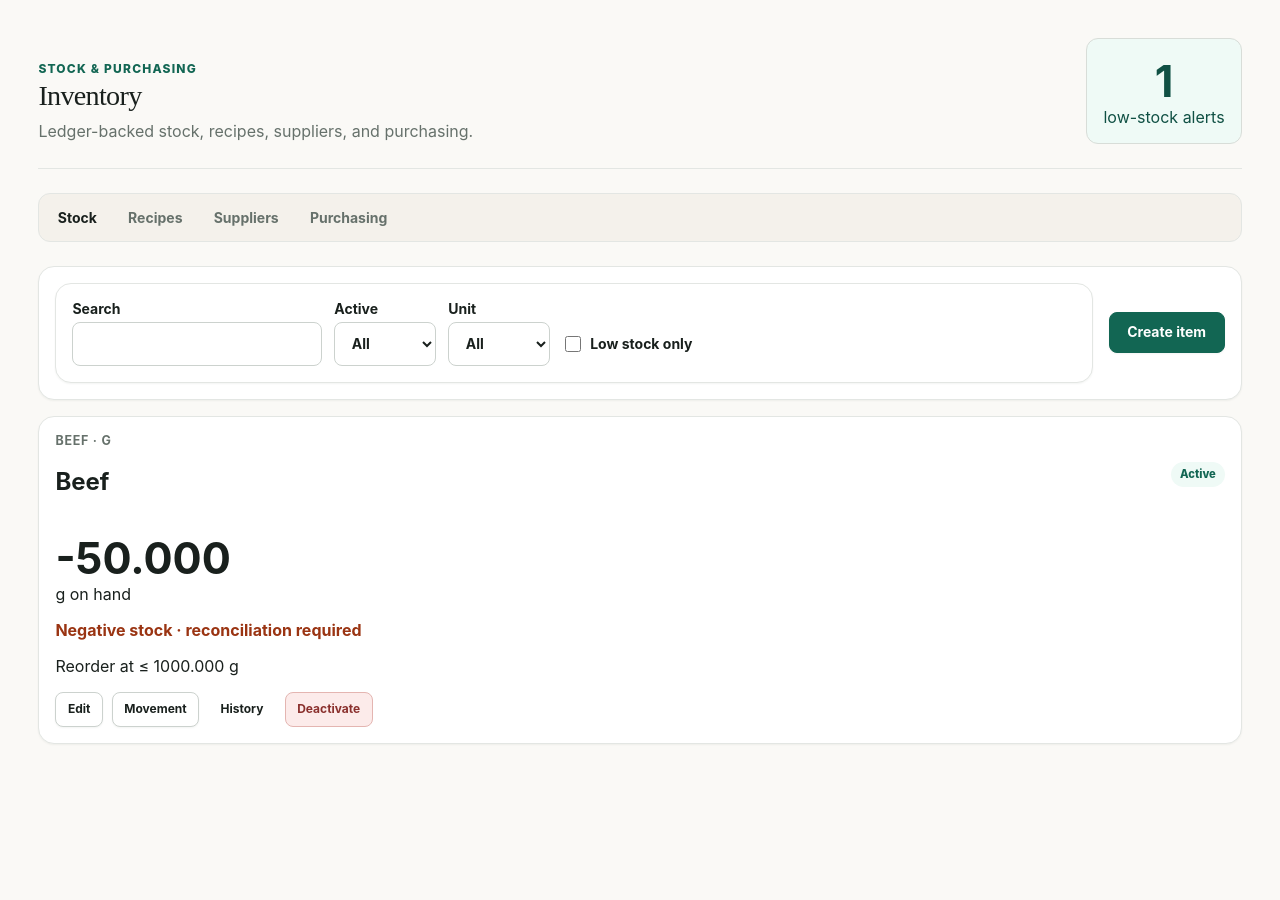
it: inventory page › records a manual waste movement without client-controlled actor or timestamp
Expected: the heading "Beef" is shown, [55,468,112,496]
Click the button "Movement". click: (155, 710)
box: [112,692,199,727]
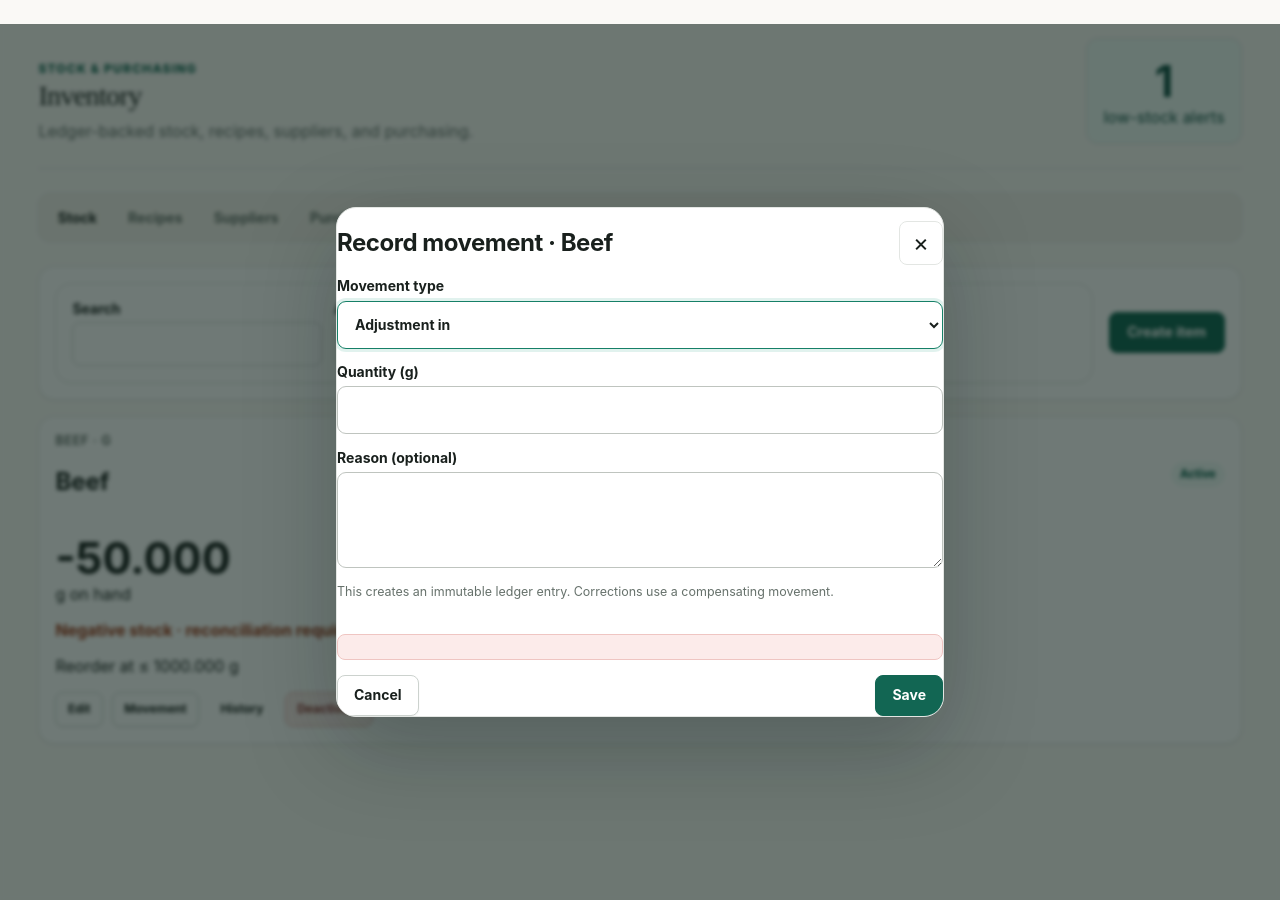
Select "Waste" in the dropdown labelled "Movement type". click: (640, 325)
box: [337,301,943,349]
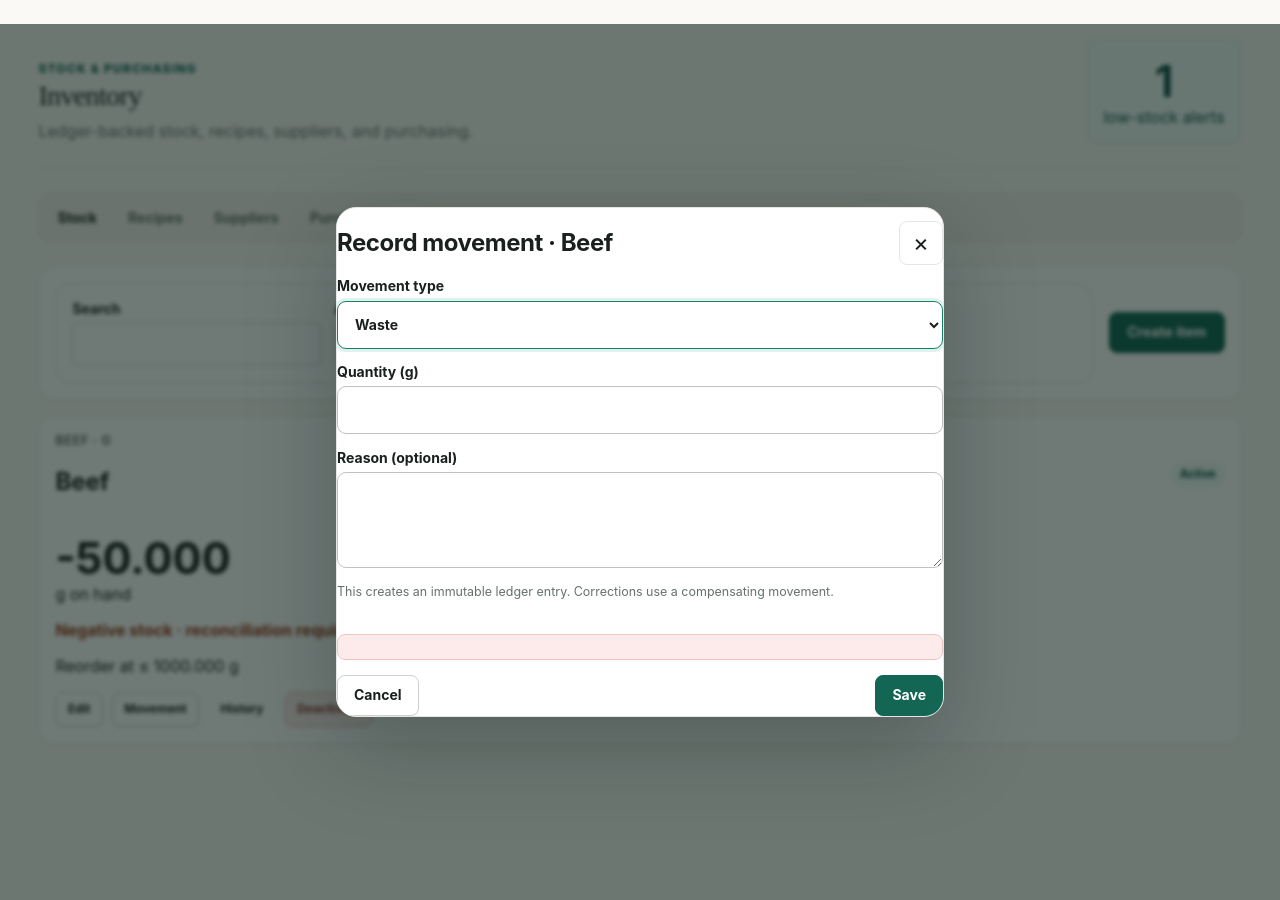
Type "2.5" into the number field labelled "Quantity (g)". click: (640, 410)
box: [337,386,943,434]
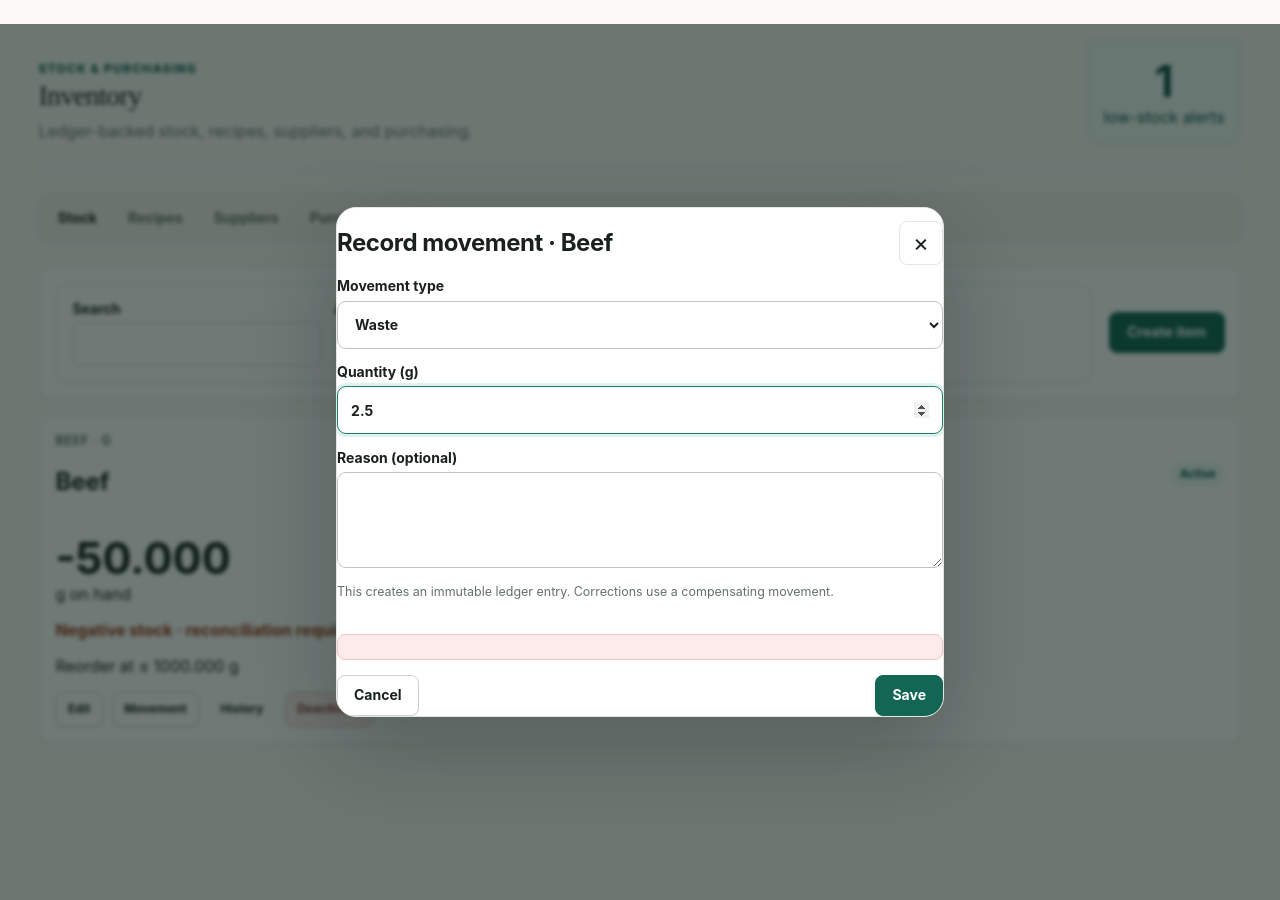
Type "Trim" into the text box labelled "Reason (optional)". click: (640, 520)
box: [337,472,943,568]
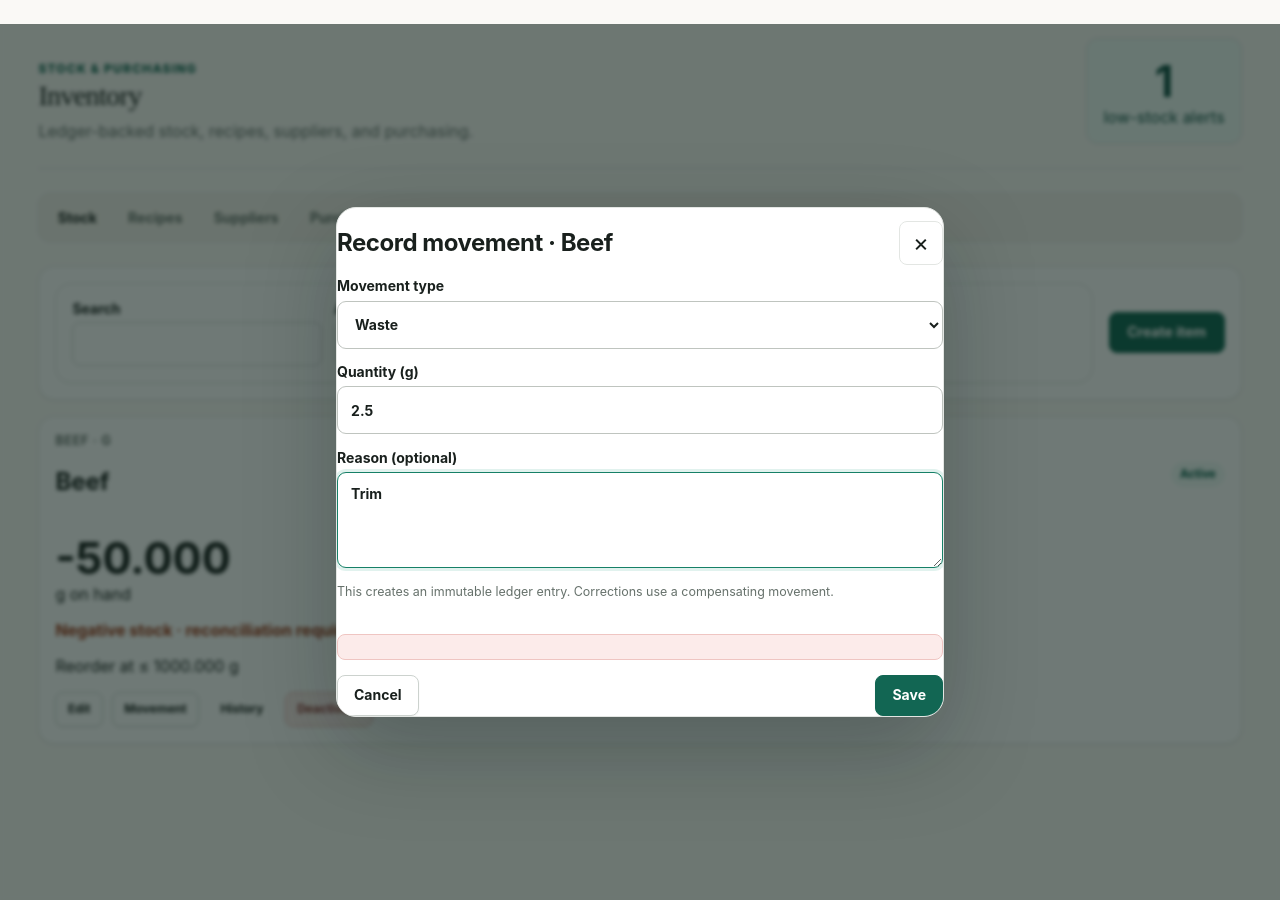
Click the button "Save". click: (909, 695)
box: [876,675,943,716]
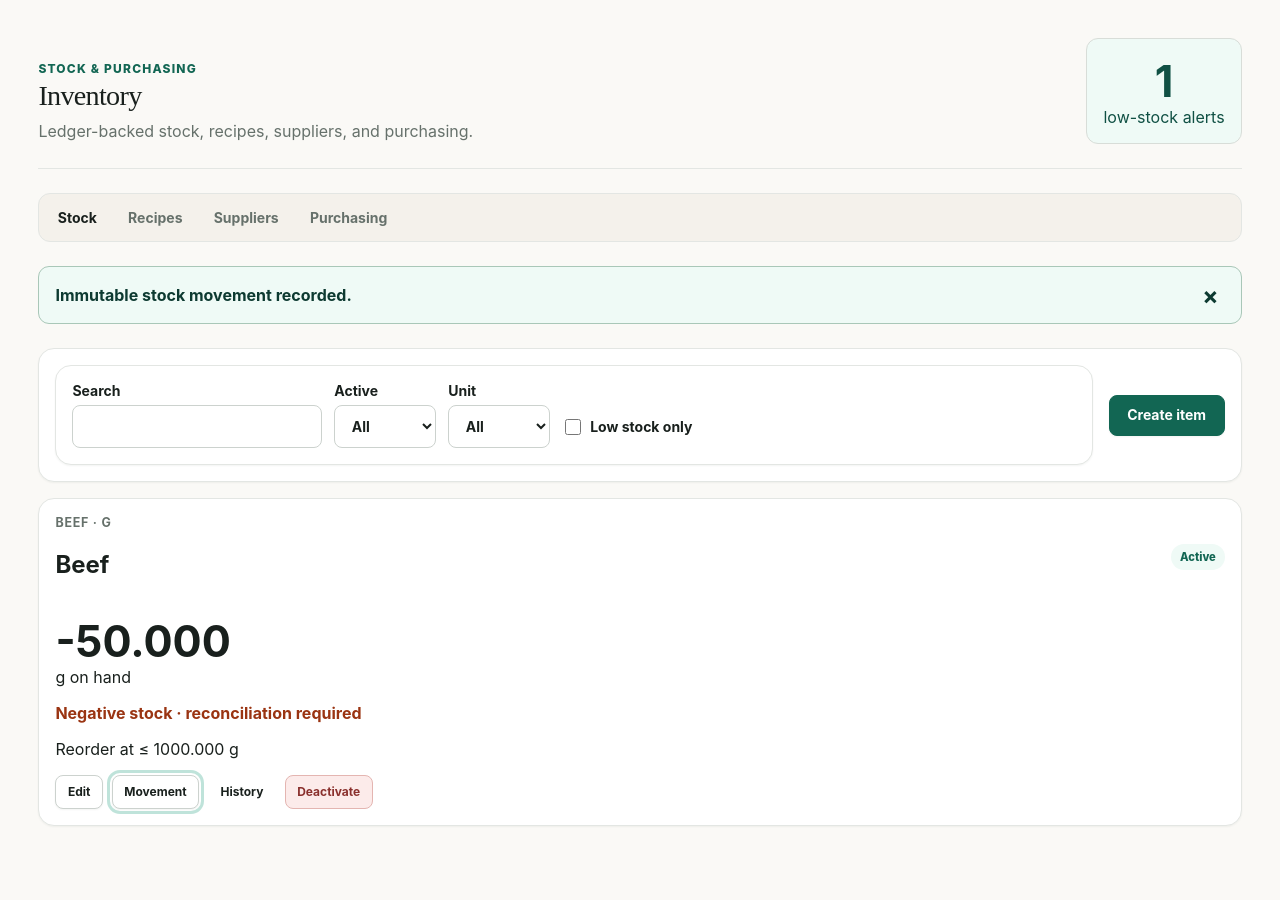
Now the message shows "Immutable stock movement recorded.", box [55,285,352,305]
